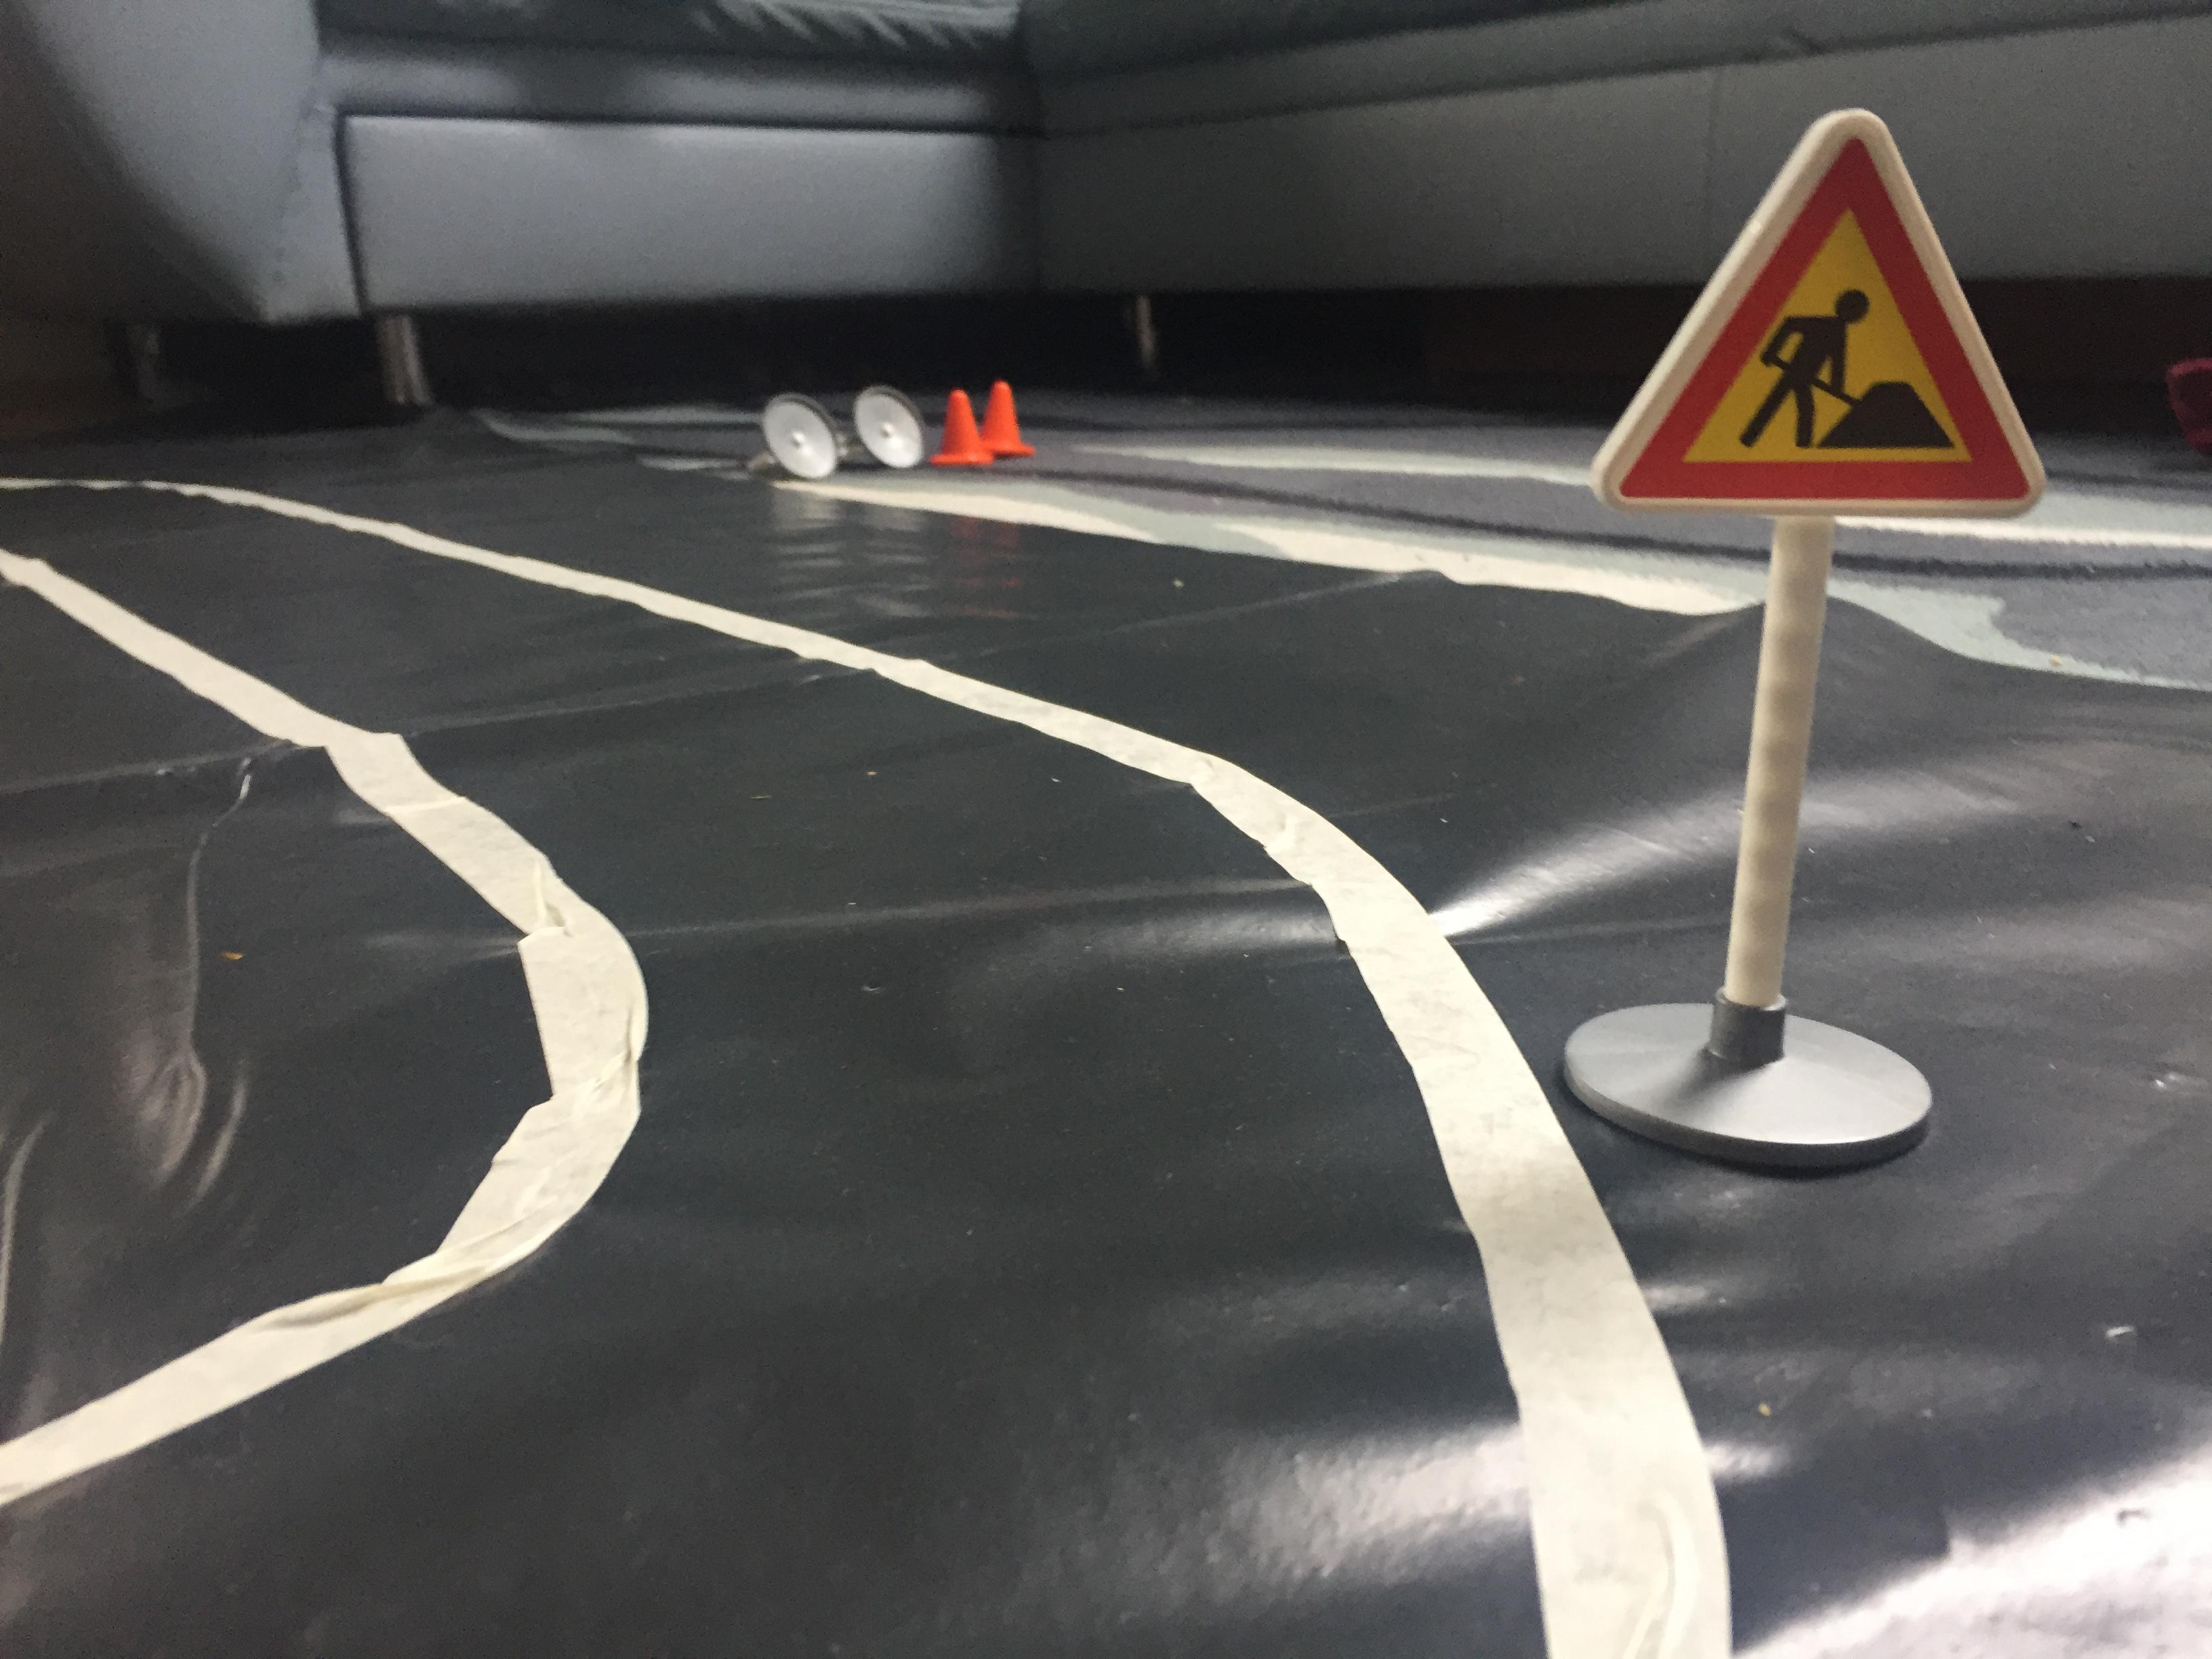work: (1578, 98, 2066, 525)
